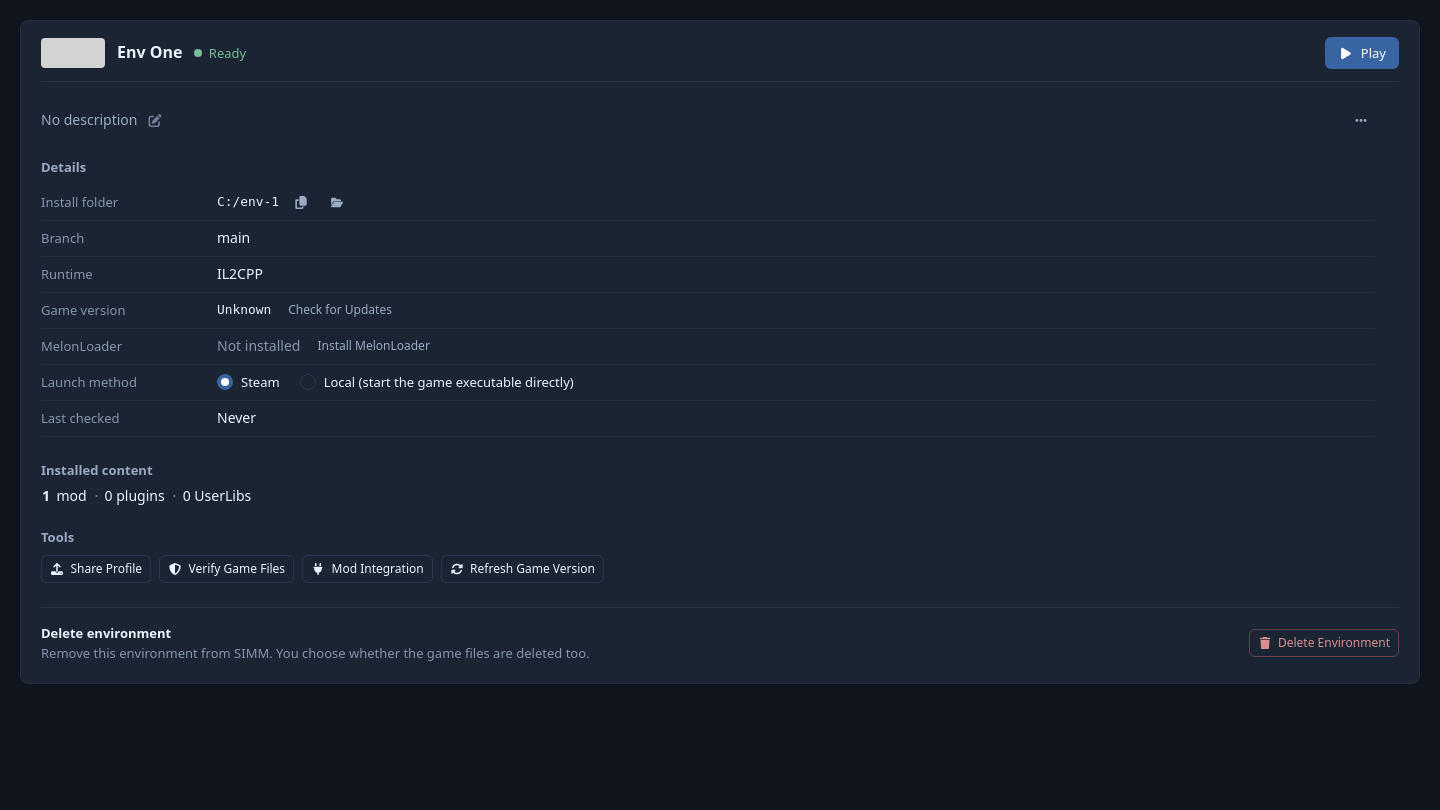
Test: EnvironmentList › exports a share profile from an environment card
Click the button "Share Profile": (96, 568) left=41, top=554, right=151, bottom=582
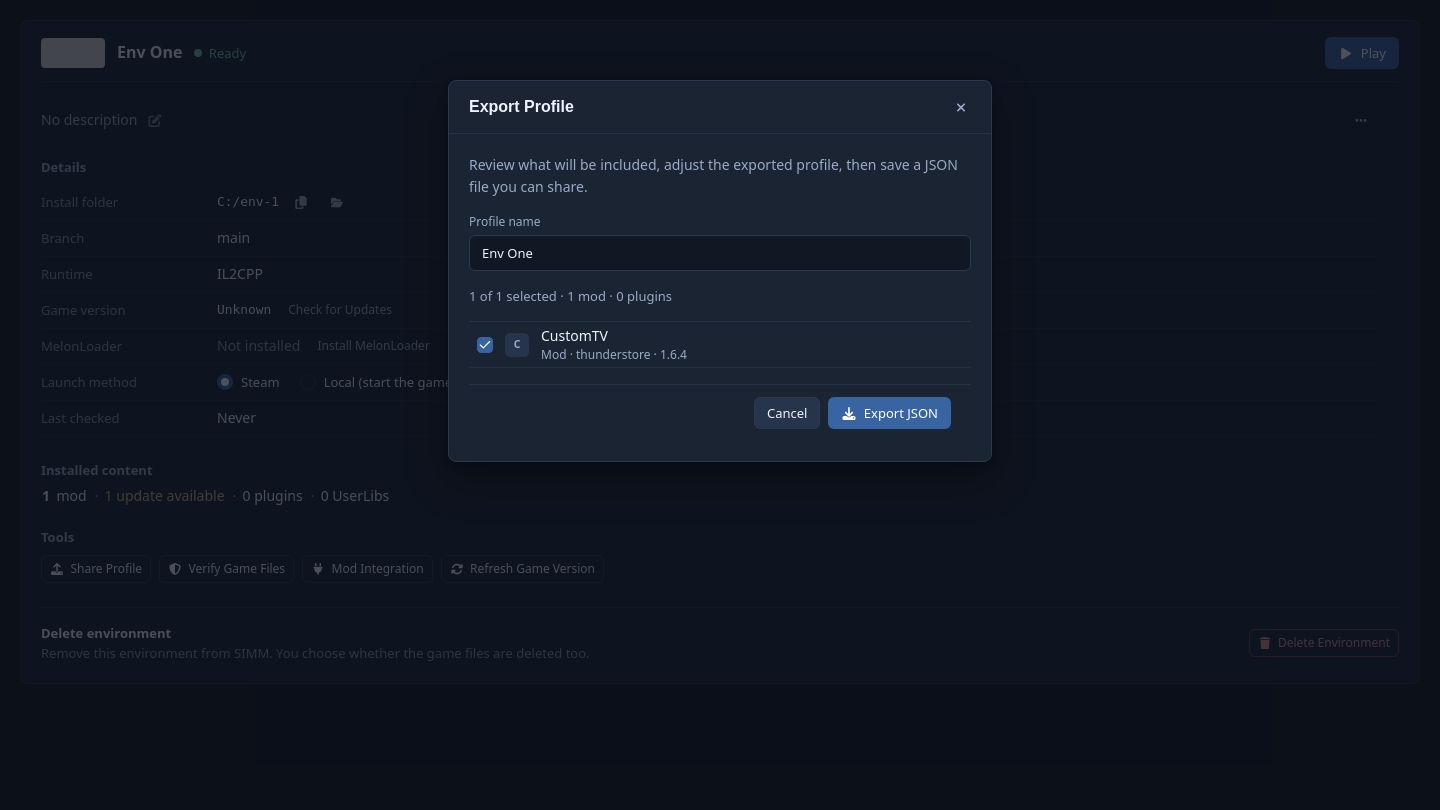
expect the heading "Export Profile" is shown: met, box left=469, top=97, right=574, bottom=117
expect the field showing "Env One" is shown: met, box left=469, top=234, right=971, bottom=270
expect the text "CustomTV" is shown: met, box left=541, top=326, right=608, bottom=345
